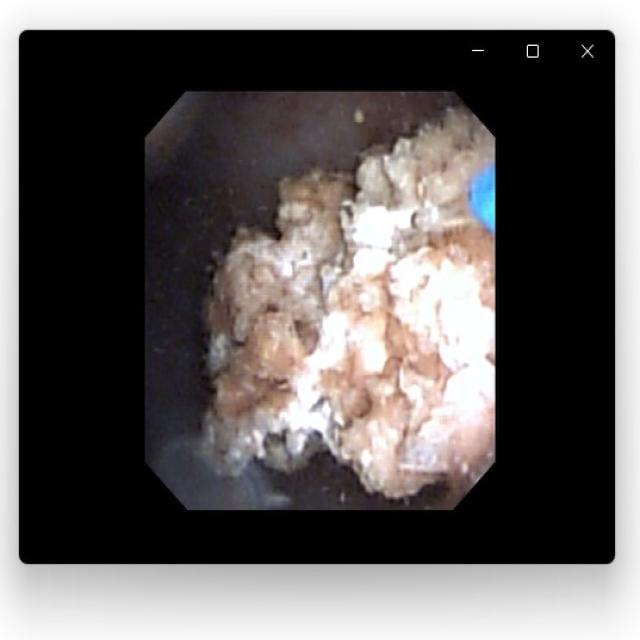stone: (212, 110, 488, 488)
